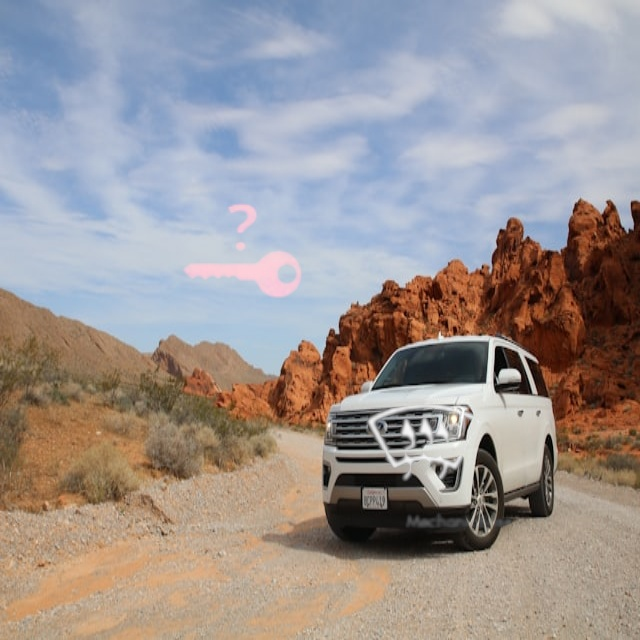symbol: (333, 350, 520, 537), (148, 158, 335, 345)
